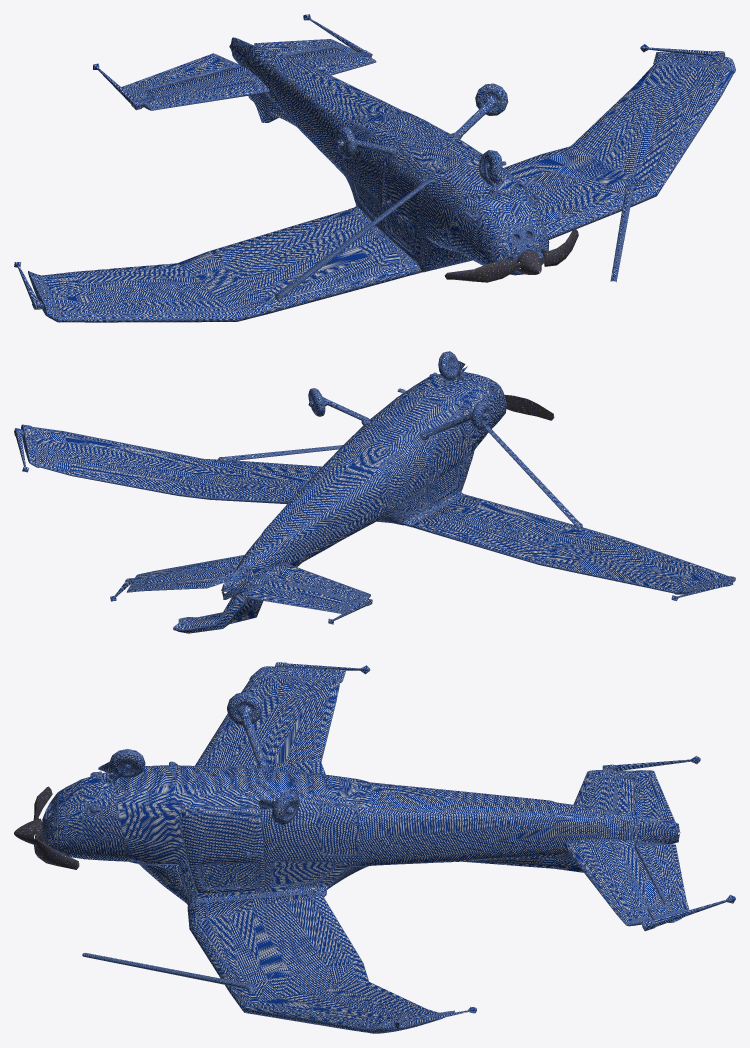
File: Neoflycrashedplane3.gltf
3 renders of one model, top to bottom at view 1: azimuth 30°, elevation 25°; view 2: azimuth 150°, elevation 25°; view 3: azimuth 270°, elevation 25°, orthographic. The views are drawn at different scales.
Parts seen in each view (by area): view 1: haleror_2, xtras_4, xtras_3, xtras_2.001; view 2: haleror_2, xtras_4, xtras_3, xtras_2.001; view 3: haleror_2, xtras_4, xtras_3, xtras_2.001.
Part boxes in pixels (x1,y1,x2,y2): haleror_2: [14, 14, 735, 322]; xtras_4: [450, 184, 549, 275]; xtras_3: [444, 228, 578, 282]; xtras_2.001: [610, 185, 636, 282]; haleror_2: [14, 351, 735, 633]; xtras_4: [429, 372, 506, 433]; xtras_3: [504, 394, 554, 420]; xtras_2.001: [217, 445, 342, 462]; haleror_2: [98, 662, 735, 1033]; xtras_4: [42, 771, 130, 861]; xtras_3: [14, 786, 79, 869]; xtras_2.001: [82, 953, 255, 993].
Bounding box in the file's own units: 12.02 × 2.29 × 9.3.
